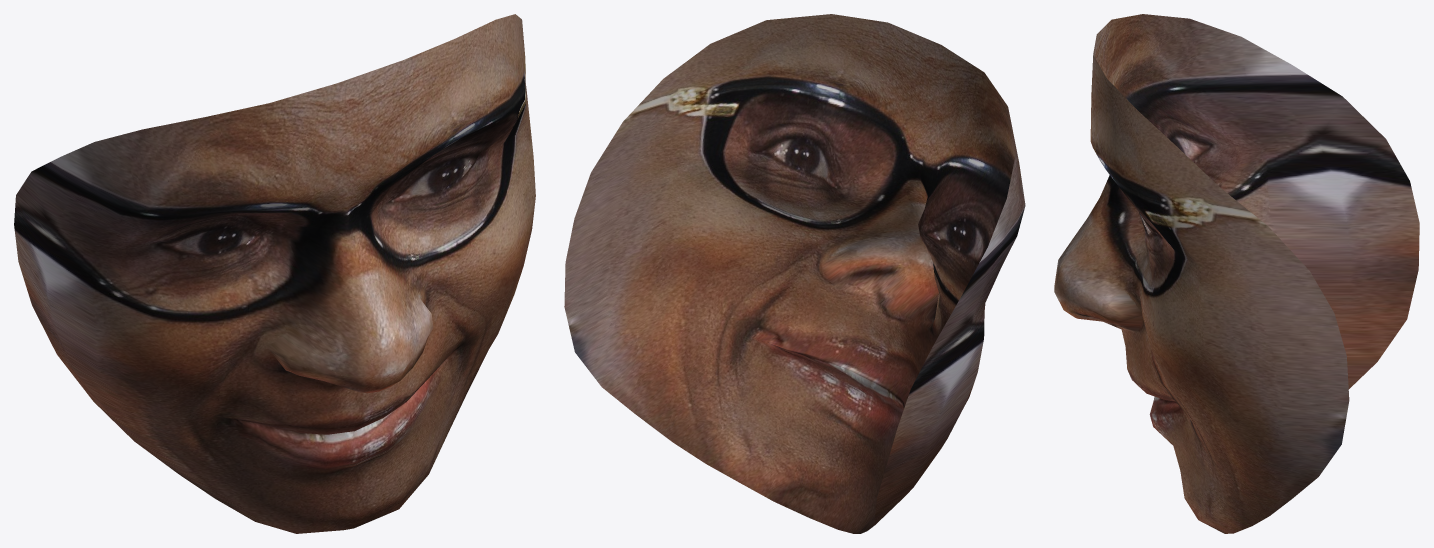
File: angelique_kidjo_face.glb
The picture shows the model from 3 angles, left to right: view 1: azimuth 30°, elevation 25°; view 2: azimuth 150°, elevation 25°; view 3: azimuth 270°, elevation 25°; orthographic projection. The views are drawn at different scales.
Parts seen in each view (by area): view 1: face; view 2: face; view 3: face.
Part boxes in pixels (x1=…): face: x1=14, y1=14, x2=535, y2=533; face: x1=564, y1=14, x2=1025, y2=533; face: x1=1054, y1=14, x2=1419, y2=533.
Size of the model in its own units: 1 by 1.09 by 0.7824.
1 material, 1 textured.
